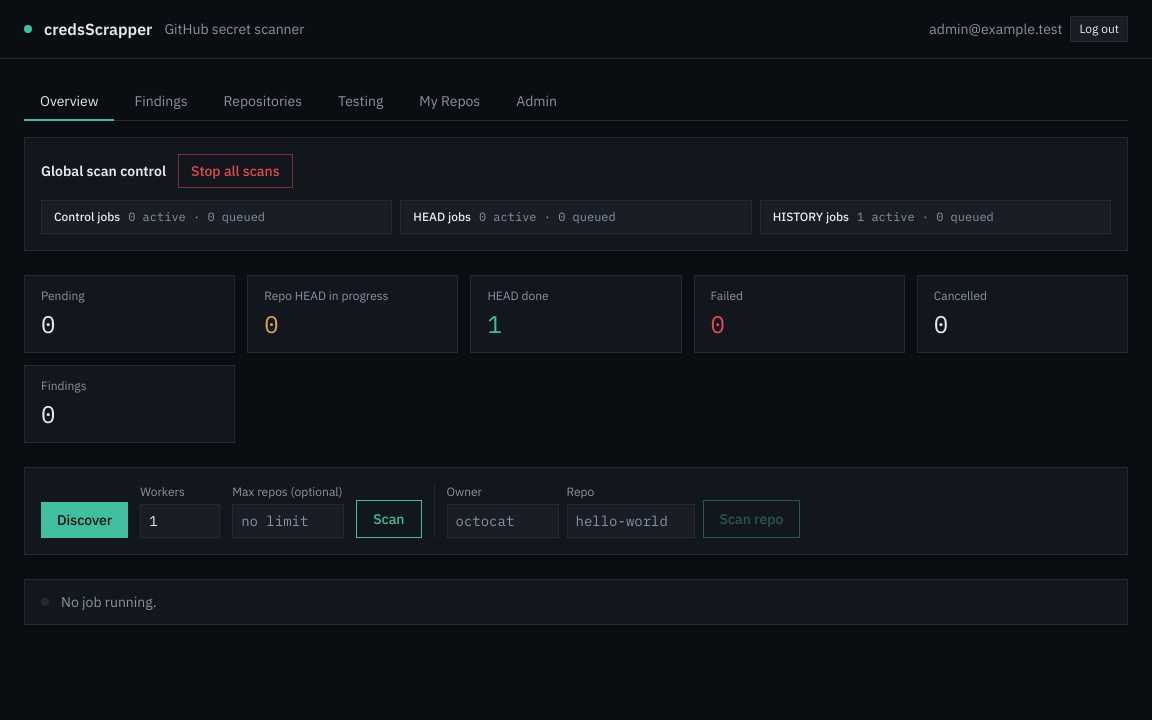
Dashboard › ignores an older ready poll response after Stop has been accepted
Click the button "Stop all scans" at (235, 171), box [178,154,292,188]
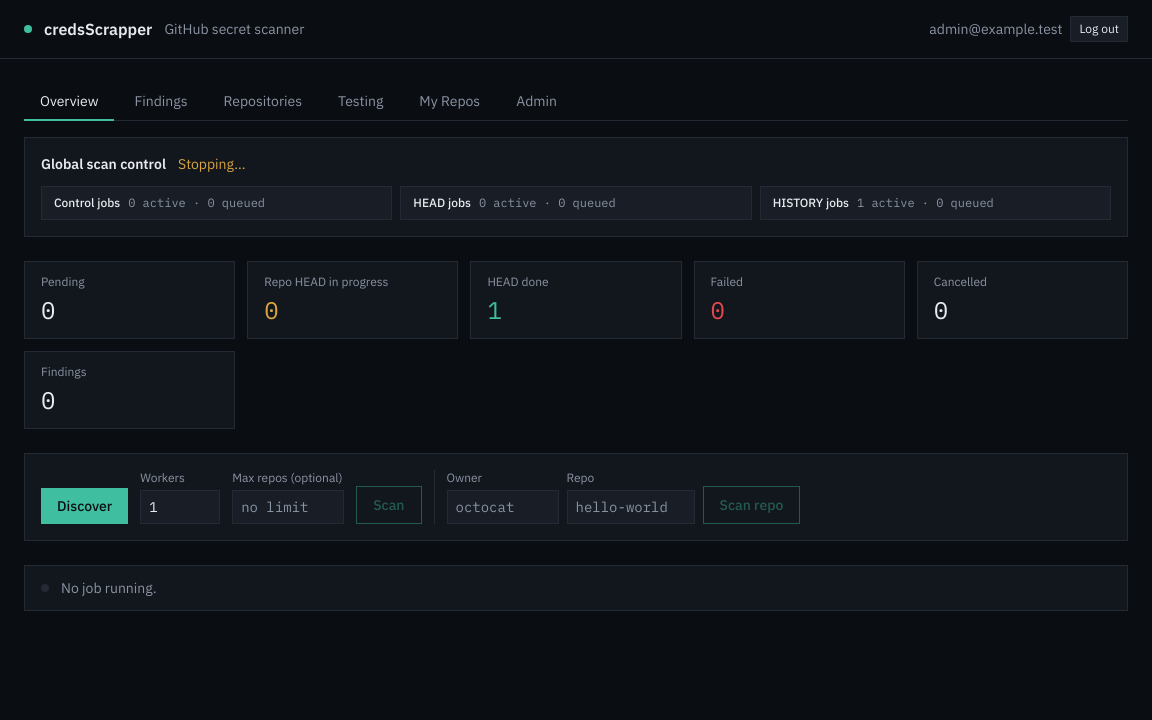
Result: the text "Stopping…" is shown at [178,154,245,174]
Result: the button "Stop all scans" is gone
